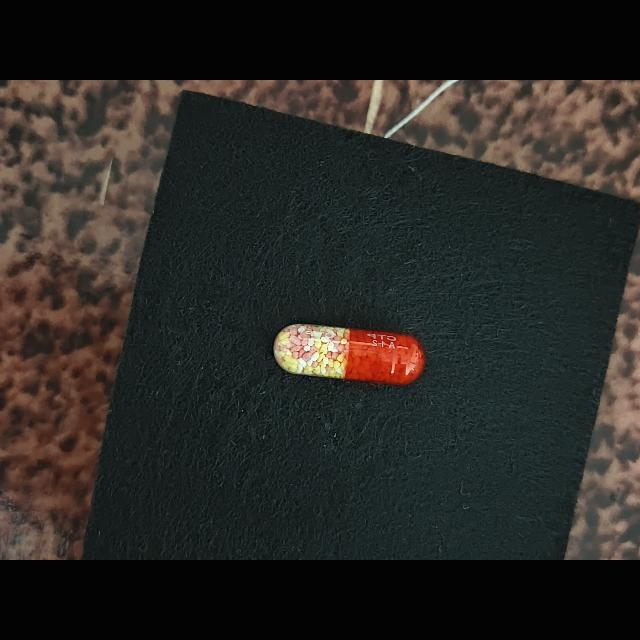Intact Capsule: (274, 324, 425, 385)
